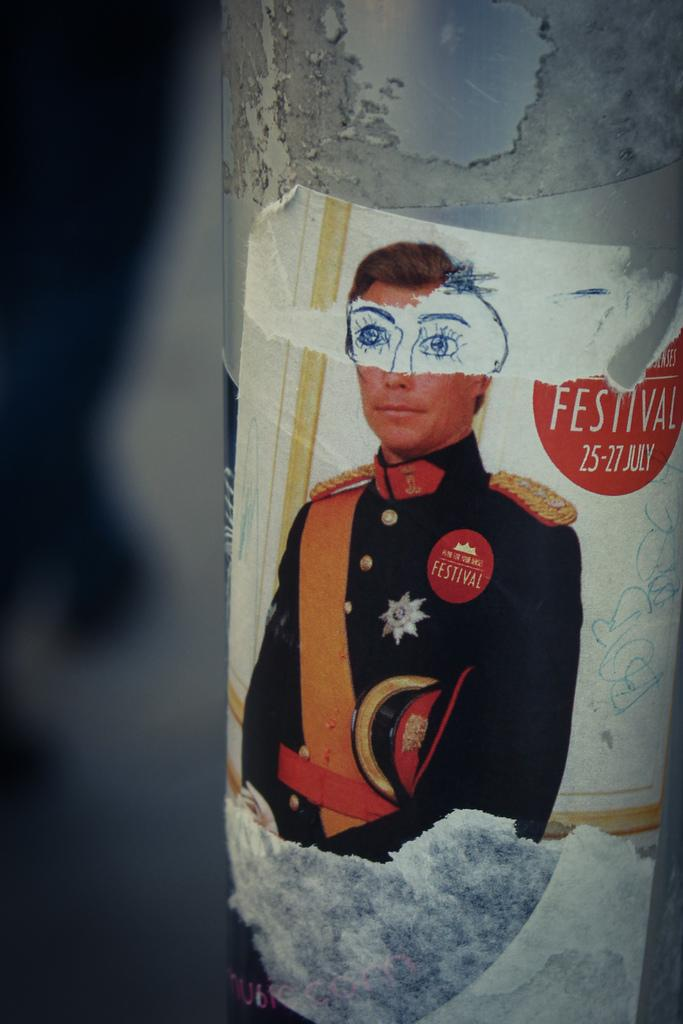Sem Máscara: (351, 277, 471, 450)
